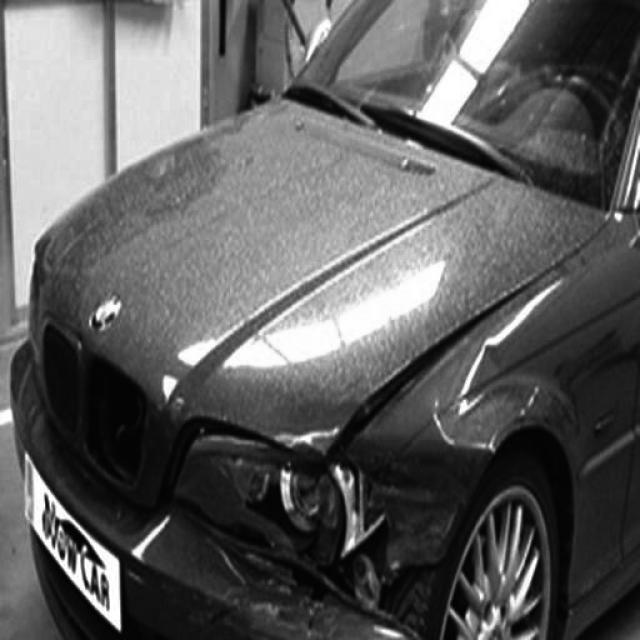car damage: (324, 237, 594, 457), (178, 451, 492, 639), (199, 563, 331, 639)
